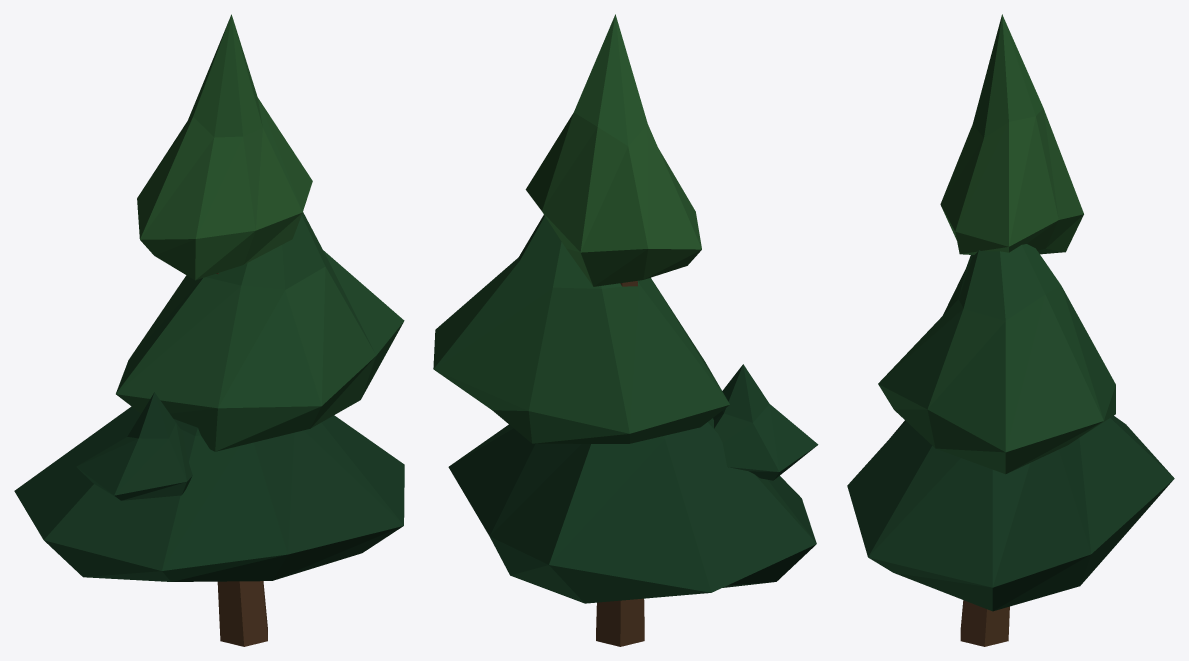
Rendered from E1_pine_b.glb.
3 renders of one model, left to right at view 1: azimuth 30°, elevation 25°; view 2: azimuth 150°, elevation 25°; view 3: azimuth 270°, elevation 25°, orthographic. The views are drawn at different scales.
Visible parts, largest first — view 1: E1_pine_b; view 2: E1_pine_b; view 3: E1_pine_b.
Boxes of the visible parts, box(x1,y1,x2,y2) form: E1_pine_b: box(14, 14, 404, 646); E1_pine_b: box(433, 14, 818, 646); E1_pine_b: box(847, 14, 1174, 646).
Size of the model in its own units: 2.62 by 4.2 by 2.01.
